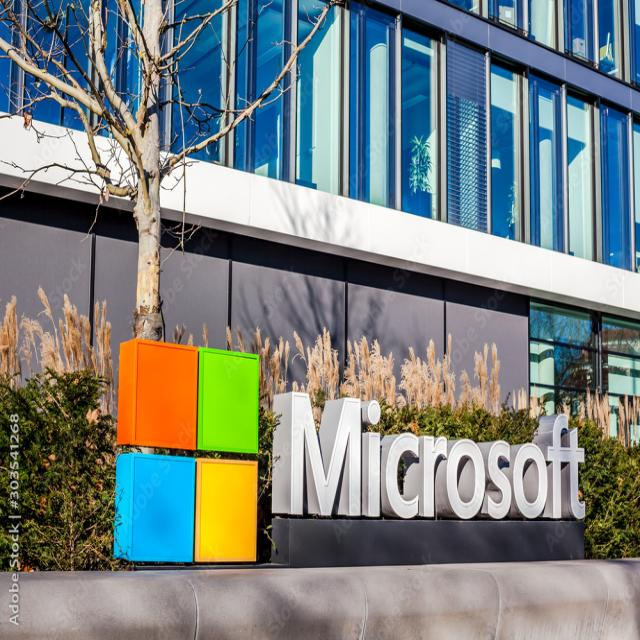microsoft: (128, 335, 260, 564)
microsoft_txt: (291, 391, 589, 520)
